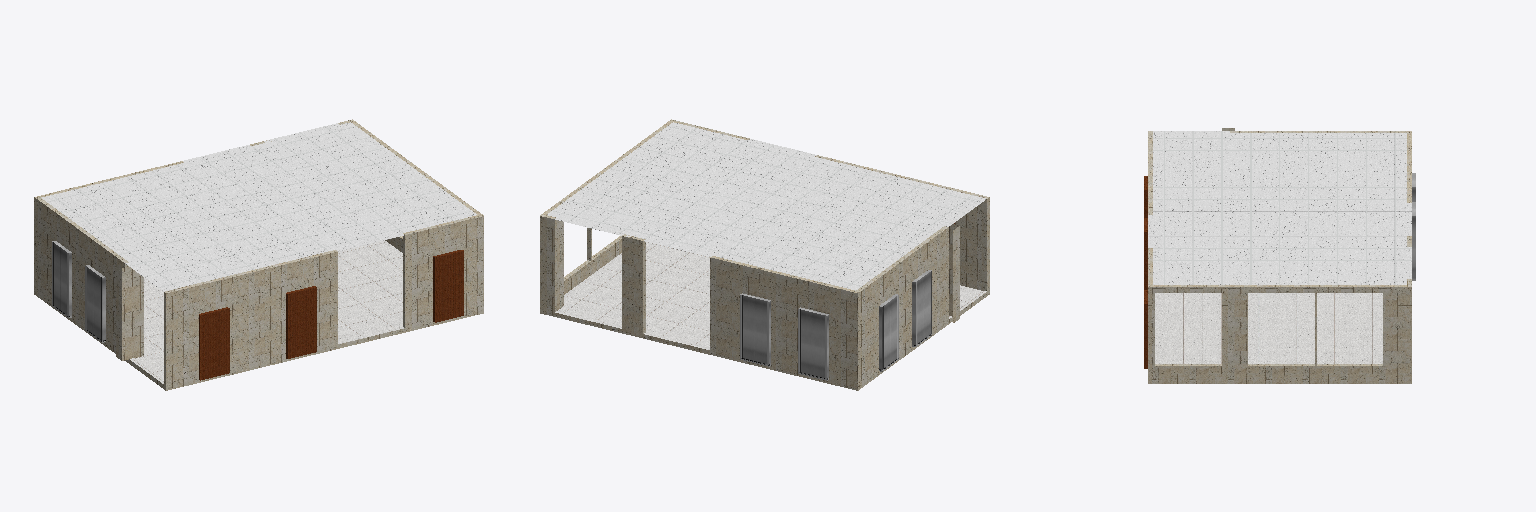
3 views of the same model, side by side, from view 1: azimuth 30°, elevation 25°; view 2: azimuth 150°, elevation 25°; view 3: azimuth 270°, elevation 25° (orthographic).
Parts seen in each view (by area): view 1: Plane.370, Plane.369, door_elevator.119, door.049, column_6/8.028, door_elevator.120; view 2: Plane.370, Plane.369, door.050, door.049, column_6/8.028, column_1/4.017; view 3: Plane.370, Plane.369.
Part boxes in pixels (x1,y1,x2,y2): Plane.370: (42, 122, 476, 291); Plane.369: (34, 119, 483, 390); door_elevator.119: (199, 286, 316, 380); door.049: (52, 241, 105, 342); column_6/8.028: (116, 264, 143, 360); door_elevator.120: (433, 250, 463, 322); Plane.370: (547, 122, 985, 290); Plane.369: (540, 119, 989, 390); door.050: (740, 293, 828, 380); door.049: (879, 270, 931, 371); column_6/8.028: (949, 224, 959, 322); column_1/4.017: (557, 220, 563, 310); Plane.370: (1148, 131, 1411, 284); Plane.369: (1148, 131, 1411, 383).
Bounding box in the file's own units: 3.89 × 1.11 × 2.81.
Materials: 6 (5 with a texture image).